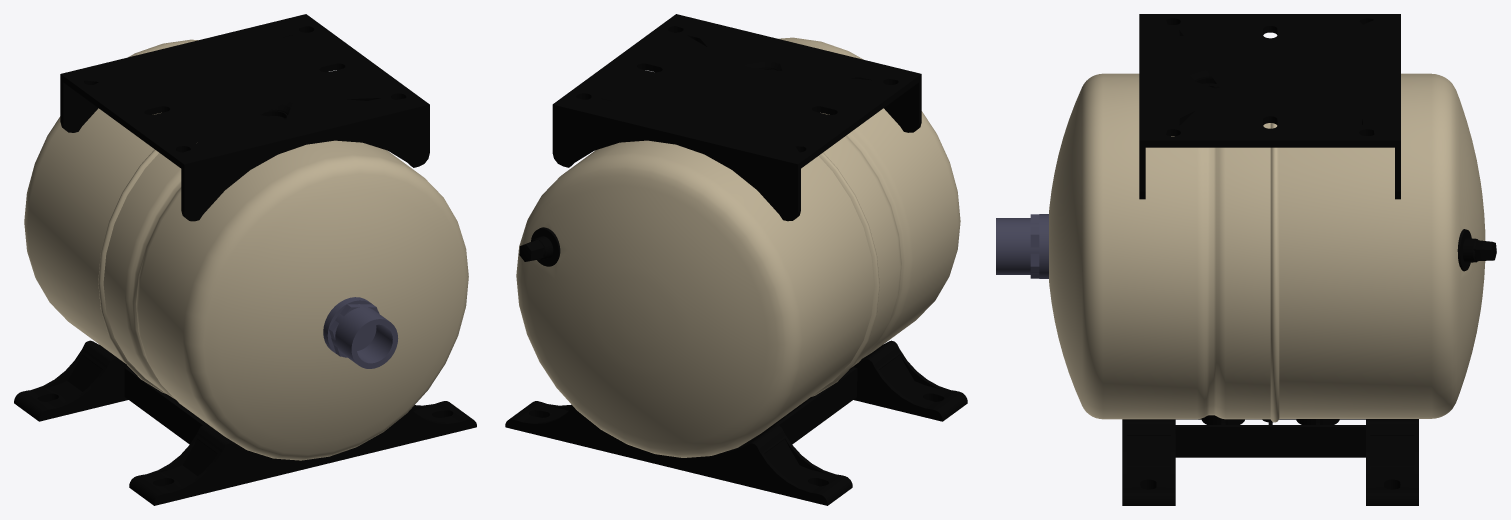
File: 12lt-sabit-tank-yatay.obj
The picture shows the model from 3 angles, left to right: view 1: azimuth 30°, elevation 25°; view 2: azimuth 150°, elevation 25°; view 3: azimuth 270°, elevation 25°; orthographic projection. The views are drawn at different scales.
Parts seen in each view (by area): view 1: 12lt-sabit-tank-yatay.003, 12lt-sabit-tank-yatay, 12lt-sabit-tank-yatay.008, 12lt-sabit-tank-yatay.016, 12lt-sabit-tank-yatay.009, 12lt-sabit-tank-yatay.007; view 2: 12lt-sabit-tank-yatay.008, 12lt-sabit-tank-yatay, 12lt-sabit-tank-yatay.003, 12lt-sabit-tank-yatay.016, 12lt-sabit-tank-yatay.007, 12lt-sabit-tank-yatay.002; view 3: 12lt-sabit-tank-yatay.003, 12lt-sabit-tank-yatay.008, 12lt-sabit-tank-yatay, 12lt-sabit-tank-yatay.016, 12lt-sabit-tank-yatay.009, 12lt-sabit-tank-yatay.007, 12lt-sabit-tank-yatay.002.
Part boxes in pixels (<box>): 12lt-sabit-tank-yatay.003: <box>103,140,468,460</box>; 12lt-sabit-tank-yatay: <box>60,14,429,221</box>; 12lt-sabit-tank-yatay.008: <box>24,39,197,363</box>; 12lt-sabit-tank-yatay.016: <box>14,340,476,505</box>; 12lt-sabit-tank-yatay.009: <box>323,297,398,368</box>; 12lt-sabit-tank-yatay.007: <box>98,149,165,393</box>; 12lt-sabit-tank-yatay.008: <box>516,140,874,457</box>; 12lt-sabit-tank-yatay: <box>552,14,921,221</box>; 12lt-sabit-tank-yatay.003: <box>778,37,960,379</box>; 12lt-sabit-tank-yatay.016: <box>505,340,967,505</box>; 12lt-sabit-tank-yatay.007: <box>811,152,879,396</box>; 12lt-sabit-tank-yatay.002: <box>519,227,560,266</box>; 12lt-sabit-tank-yatay.003: <box>1049,73,1270,419</box>; 12lt-sabit-tank-yatay.008: <box>1279,73,1485,418</box>; 12lt-sabit-tank-yatay: <box>1139,14,1400,199</box>; 12lt-sabit-tank-yatay.016: <box>1122,415,1418,505</box>; 12lt-sabit-tank-yatay.009: <box>996,214,1048,278</box>; 12lt-sabit-tank-yatay.007: <box>1270,123,1279,422</box>; 12lt-sabit-tank-yatay.002: <box>1457,229,1496,271</box>.
Bounding box in the file's own units: 27.69 × 26.76 × 35.2.
